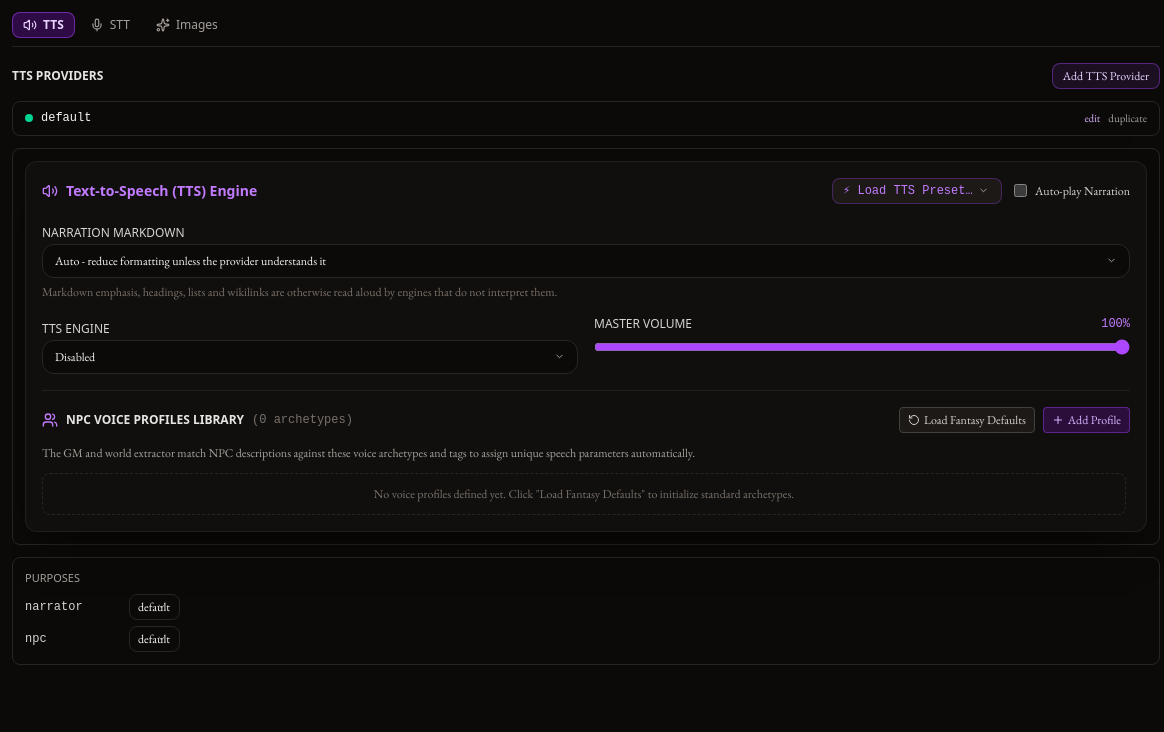
Test case: MediaPanel › switches to Images tab and renders image generation editor
Click the tab "Images".
click(187, 25)  # box [145,12,229,38]
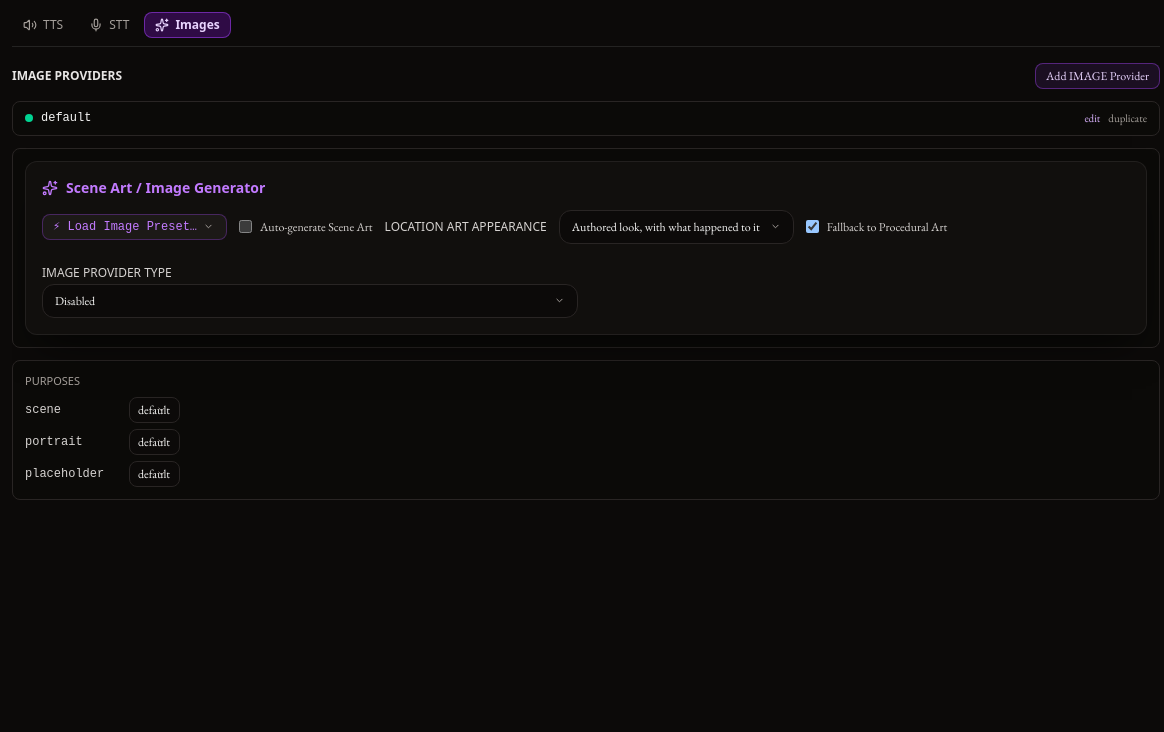
Now the heading "IMAGE Providers" is shown, box [12,68,122,84]
